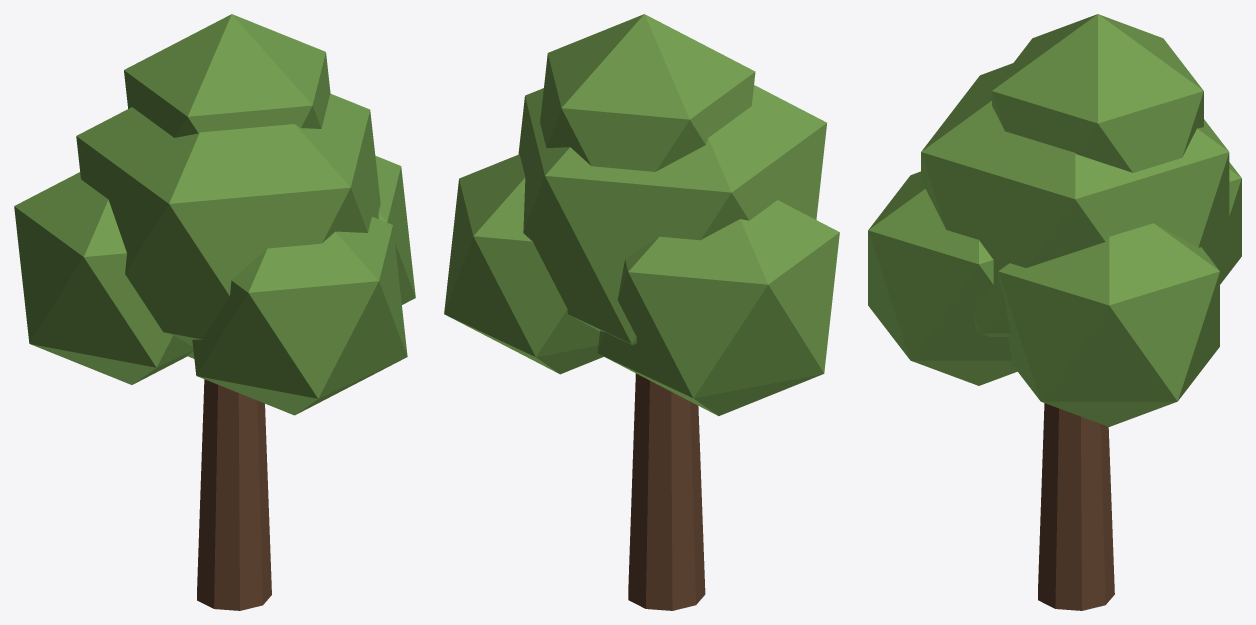
Rendered from TreeRound.fbx.
3 renders of one model, left to right at view 1: azimuth 30°, elevation 25°; view 2: azimuth 150°, elevation 25°; view 3: azimuth 270°, elevation 25°, orthographic. The views are drawn at different scales.
Parts seen in each view (by area): view 1: Leaves, Trunk; view 2: Leaves, Trunk; view 3: Leaves, Trunk.
Boxes of the visible parts, x1,y1,x2,y2 form: Leaves: (14, 14, 415, 415); Trunk: (197, 379, 271, 610); Leaves: (444, 14, 839, 416); Trunk: (628, 373, 705, 610); Leaves: (868, 14, 1241, 426); Trunk: (1038, 403, 1114, 610).
Bounding box in the file's own units: 760 × 1140 × 660.
